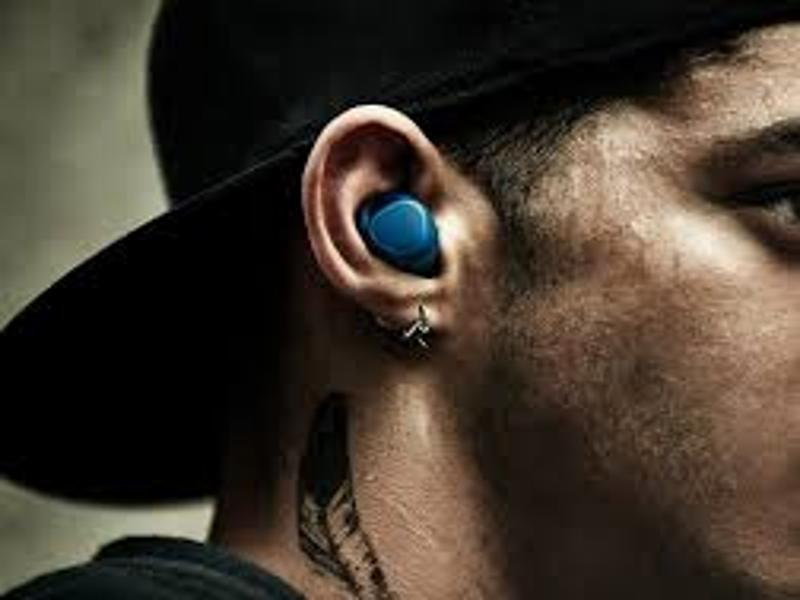headphone: (355, 189, 443, 277)
